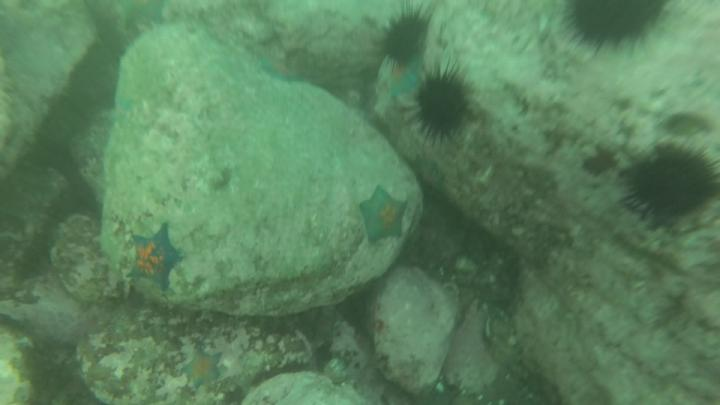echinus: (622, 135, 720, 231), (560, 1, 680, 57), (410, 63, 479, 148), (377, 3, 433, 75)
starfish: (123, 223, 185, 293), (356, 185, 409, 248), (175, 344, 229, 394), (383, 56, 426, 103), (257, 52, 310, 87)
